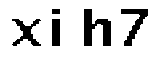7: (118, 5, 153, 48)
h: (78, 6, 112, 51)
i: (47, 6, 71, 52)
x: (9, 17, 43, 50)
